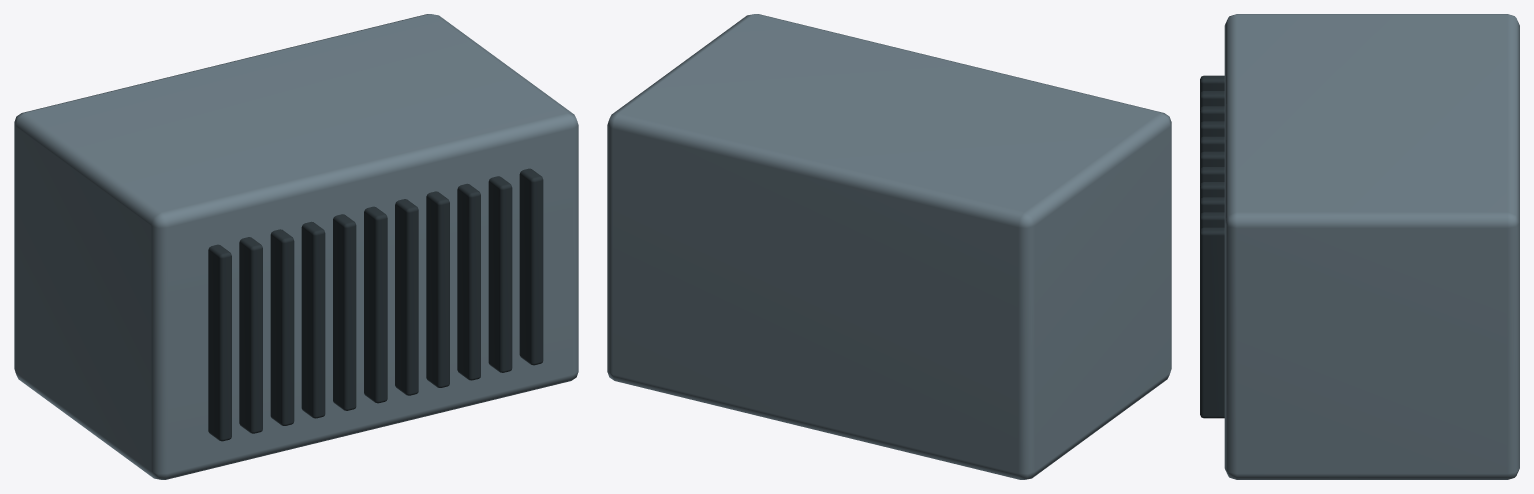
The model's file is SM_FE_Vent.fbx.
3 renders of one model, left to right at view 1: azimuth 30°, elevation 25°; view 2: azimuth 150°, elevation 25°; view 3: azimuth 270°, elevation 25°, orthographic.
Visible parts, largest first — view 1: SM_FE_Vent; view 2: SM_FE_Vent; view 3: SM_FE_Vent.
Boxes of the visible parts, <box> form: SM_FE_Vent: <box>14,14,578,479</box>; SM_FE_Vent: <box>607,14,1171,479</box>; SM_FE_Vent: <box>1200,14,1519,479</box>.
Bounding box in the file's own units: 100 × 65 × 60.
